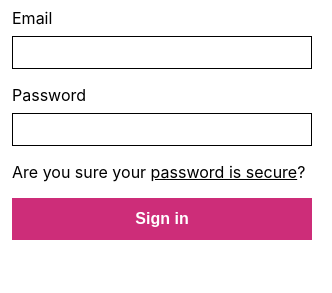
Scenario: Displays the error message of signIn if it throws an error
Click the button "Sign in": x=162, y=219 [12,198,312,240]
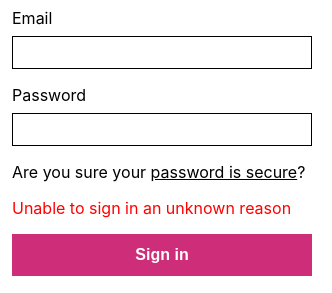
Expected: the text "Unable to sign in an unknown reason" is shown, [12,198,291,218]
